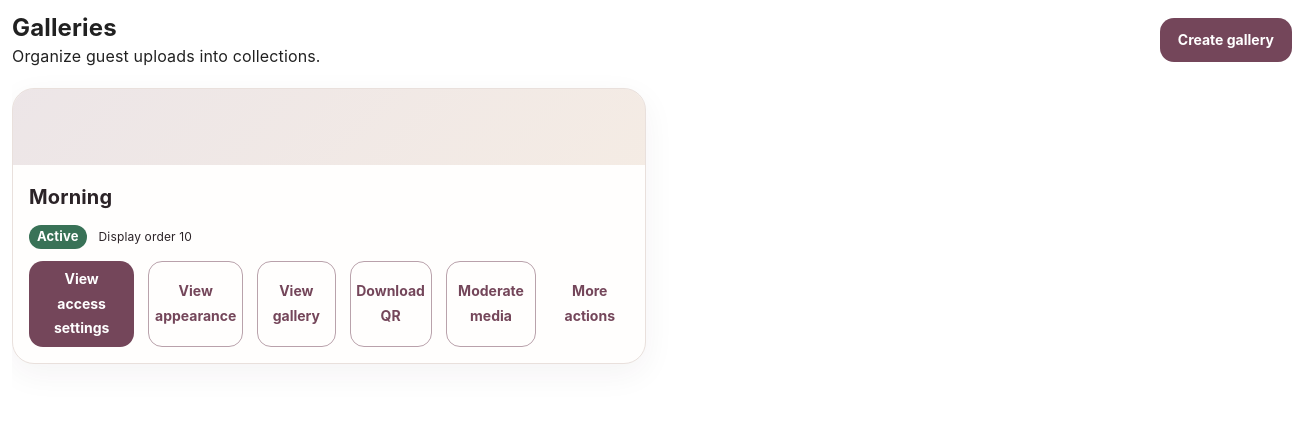
Test: GalleryManager › does not expose lifecycle actions to a manager
Check: the heading "Morning" is shown, box [29,185,112,209]
Click the button with aria-label "More actions for Morning".
click(590, 304)  # box [550,261,629,346]
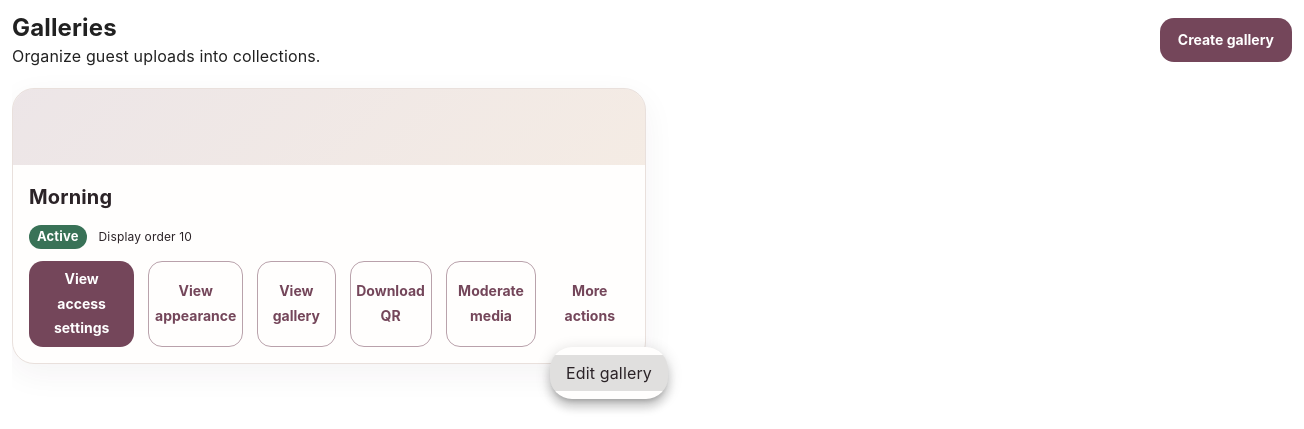
Check: the menu item "Edit gallery" is shown, box [550,355,668,391]
